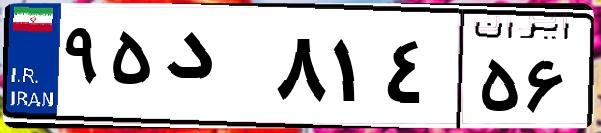1: (330, 28, 385, 110)
4: (385, 28, 445, 110)
5: (475, 38, 525, 113), (110, 28, 158, 98)
6: (525, 38, 570, 115)
8: (270, 28, 330, 110)
9: (57, 26, 110, 100)
د: (158, 20, 270, 120)
